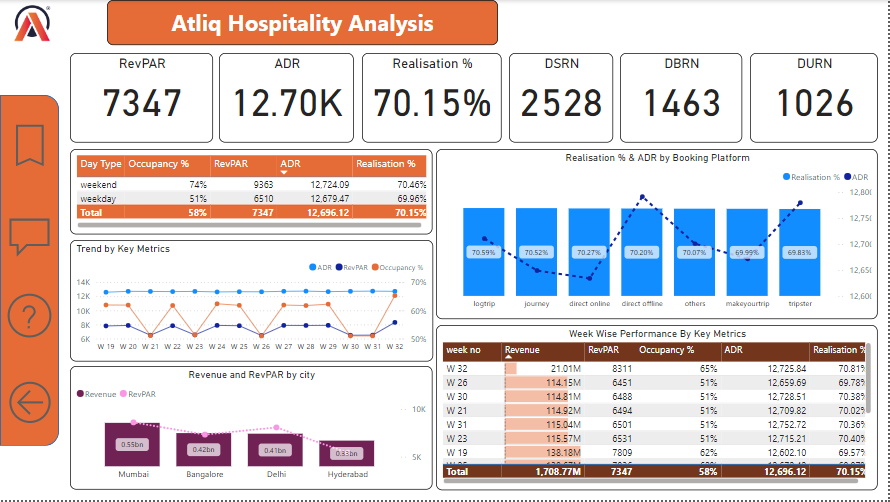

The dashboard page shown, as its layout file describes it:
{"tool":"powerbi","page":{"name":"Page 3","canvas":[1280,720],"ordinal":2},"visuals":[{"type":"card","title":"RevPAR","fields":{"Values":["key_measures.RevPAR"]},"box":[100.2,76.6,205.8,129.2],"z":0},{"type":"card","title":"Realisation %","fields":{"Values":["key_measures.Realisation %"]},"box":[521.9,76.6,200.8,129.2],"z":1000},{"type":"card","title":"DSRN","fields":{"Values":["key_measures.DSRN"]},"box":[732.7,76.6,150,129.2],"z":2000},{"type":"card","title":"DURN","fields":{"Values":["key_measures.DURN"]},"box":[1080.2,76.6,184.2,129.2],"z":3000},{"type":"card","title":"ADR","fields":{"Values":["key_measures.ADR"]},"box":[316.1,76.6,194.2,129.2],"z":4000},{"type":"textbox","box":[154.1,0,563,64.8],"z":5000},{"type":"card","title":"DBRN","fields":{"Values":["key_measures.DBRN"]},"box":[892.7,76.6,175.8,129.2],"z":6000},{"type":"lineChart","title":"Trend by Key Metrics","fields":{"Category":["dim_date.week no"],"Y":["key_measures.ADR","key_measures.RevPAR"],"Y2":["key_measures.Occupancy %"]},"box":[100.2,345.8,522.6,174.7],"z":7000},{"type":"tableEx","title":"Week Wise Performance By Key Metrics","fields":{"Values":["dim_date.week no","key_measures.Revenue","key_measures.RevPAR","key_measures.Occupancy %","key_measures.ADR","key_measures.Realisation %"]},"box":[627.9,468.1,636.2,237.7],"z":8000},{"type":"lineClusteredColumnComboChart","title":"Realisation % & ADR by Booking Platform","fields":{"Y":["key_measures.Realisation %"],"Category":["fact_bookings.booking_platform"],"Y2":["key_measures.ADR"]},"box":[627.5,213.9,636.4,244.5],"z":9000},{"type":"lineClusteredColumnComboChart","fields":{"Y2":["key_measures.RevPAR"],"Category":["dim_hotels.city"],"Y":["key_measures.Revenue"]},"box":[100.2,527.3,521.6,178.4],"z":10000},{"type":"tableEx","fields":{"Values":["dim_date.day_type","key_measures.Occupancy %","key_measures.RevPAR","key_measures.ADR","key_measures.Realisation %"]},"box":[100.2,213.9,521.8,122.7],"z":11000},{"type":"shape","box":[0,136.8,85,505.4],"z":12000},{"type":"actionButton","box":[5.8,540,74.9,79.2],"z":13000},{"type":"actionButton","box":[2.9,411.8,79.2,85],"z":14000},{"type":"actionButton","box":[5.8,157,74.9,105.1],"z":15000},{"type":"actionButton","box":[7.2,293.8,70.6,96.5],"z":16000},{"type":"image","box":[0,1.5,93.8,63.1],"z":17000}]}

Visuals, with their boxes in screenshot pixels (x1, y1, x2, y2), scaled from the page's 1280x720 canvas onto the 890x502 screenshot:
"RevPAR" card: left=70, top=53, right=213, bottom=143
"Realisation %" card: left=363, top=53, right=503, bottom=143
"DSRN" card: left=509, top=53, right=614, bottom=143
"DURN" card: left=751, top=53, right=879, bottom=143
"ADR" card: left=220, top=53, right=355, bottom=143
textbox: left=107, top=0, right=499, bottom=45
"DBRN" card: left=621, top=53, right=743, bottom=143
"Trend by Key Metrics" lineChart: left=70, top=241, right=433, bottom=363
"Week Wise Performance By Key Metrics" tableEx: left=437, top=326, right=879, bottom=492
"Realisation % & ADR by Booking Platform" lineClusteredColumnComboChart: left=436, top=149, right=879, bottom=320
lineClusteredColumnComboChart - key_measures.RevPAR x dim_hotels.city: left=70, top=368, right=432, bottom=492
tableEx - dim_date.day_type x key_measures.Occupancy %: left=70, top=149, right=432, bottom=235
shape: left=0, top=95, right=59, bottom=448
actionButton: left=4, top=376, right=56, bottom=432
actionButton: left=2, top=287, right=57, bottom=346
actionButton: left=4, top=109, right=56, bottom=183
actionButton: left=5, top=205, right=54, bottom=272
image: left=0, top=1, right=65, bottom=45
